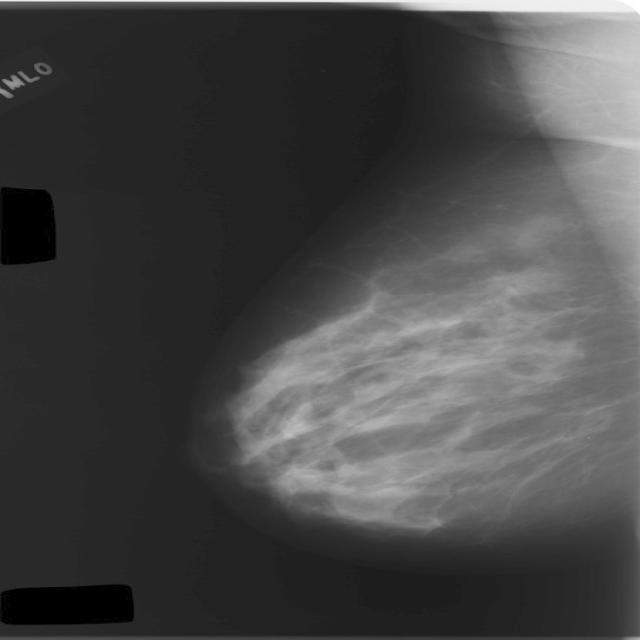tumour: (481, 264, 560, 294)
